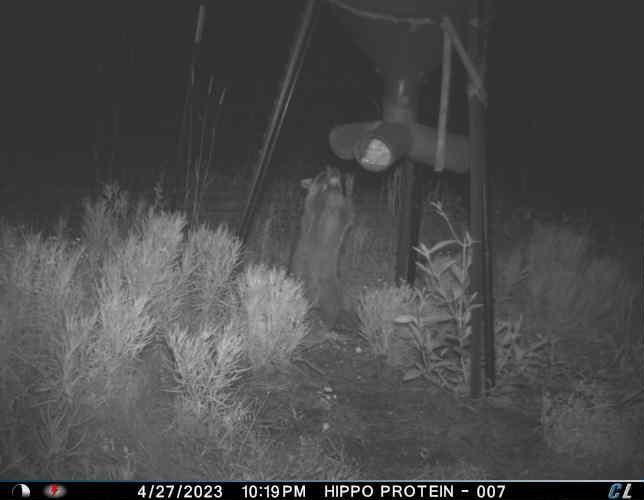Raccoon: (294, 165, 364, 335)
